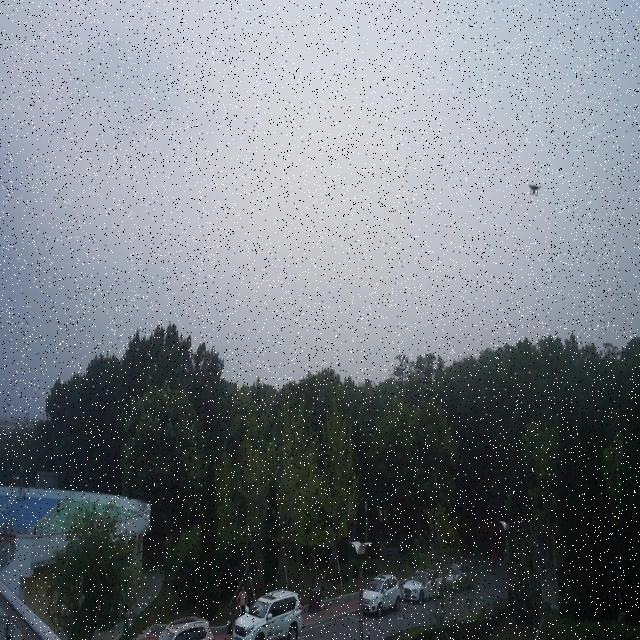UAV: (528, 184, 542, 196)
